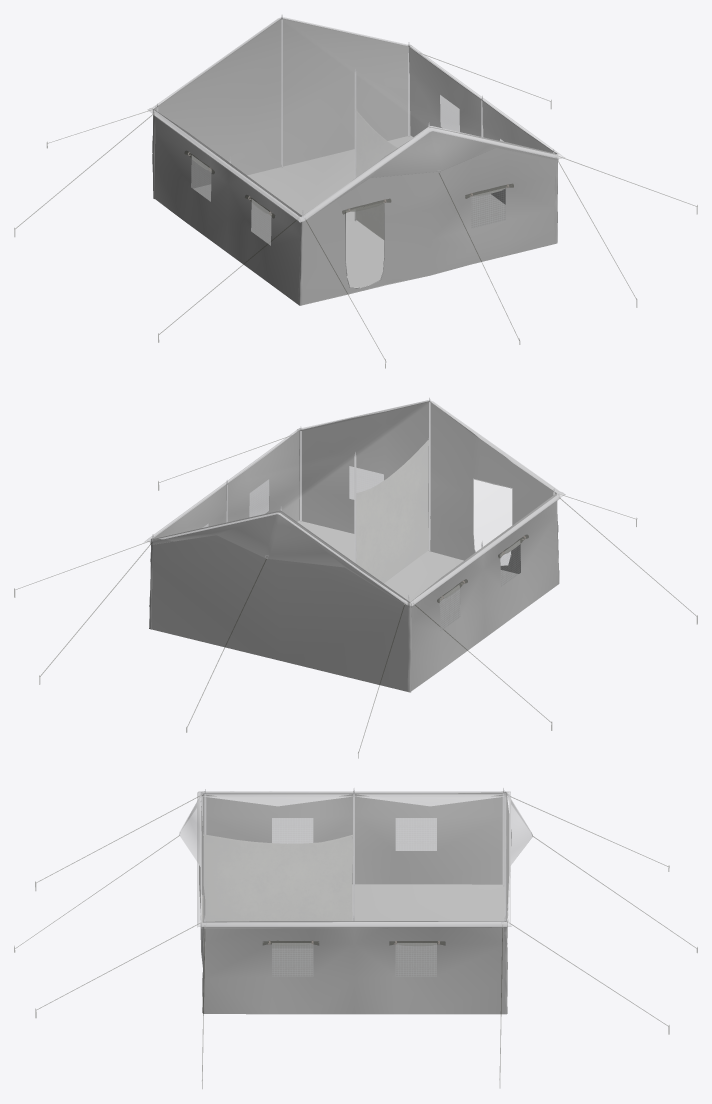
The model's file is tent.obj.
3 views of the same model, one above another, from view 1: azimuth 30°, elevation 25°; view 2: azimuth 150°, elevation 25°; view 3: azimuth 270°, elevation 25° (orthographic). The views are drawn at different scales.
Parts seen in each view (by area): view 1: osnova, Плоскость; view 2: osnova, Плоскость; view 3: osnova, Плоскость.
Boxes of the visible parts, box(x1,y1,x2,y2) form: osnova: box(14, 15, 697, 368); Плоскость: box(355, 111, 396, 239); osnova: box(14, 398, 697, 758); Плоскость: box(356, 440, 428, 582); osnova: box(14, 788, 697, 1088); Плоскость: box(203, 835, 352, 947).
Size of the model in its own units: 9.45 by 2.66 by 10.1.
